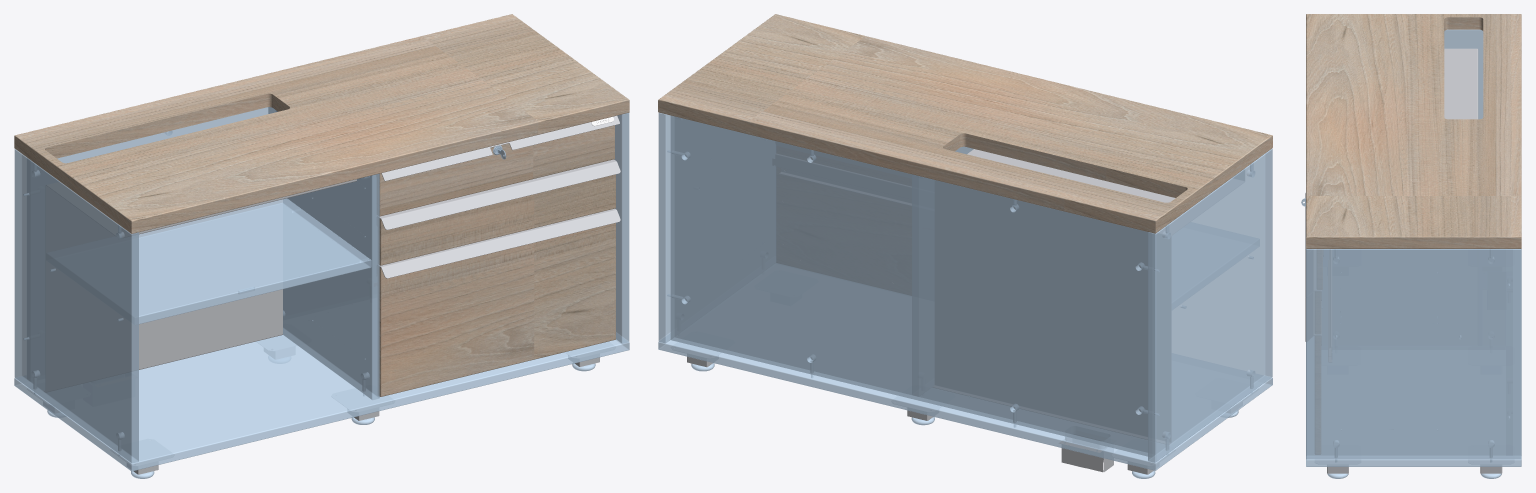
File: LKAL180000_DER_120.glb
3 views of the same model, side by side, from view 1: azimuth 30°, elevation 25°; view 2: azimuth 150°, elevation 25°; view 3: azimuth 270°, elevation 25° (orthographic). The views are drawn at different scales.
Parts seen in each view (by area): view 1: 4 (×4), 72, 59, 70, 67, 65, 74; view 2: 4 (×4), 72, 60, 64; view 3: 4 (×4), 72, 59, 60, 70.
Boxes of the visible parts, left/top/right/bottom form: 4 (×4): left=14, top=14, right=629, bottom=471; 72: left=45, top=179, right=356, bottom=391; 59: left=379, top=159, right=620, bottom=229; 70: left=379, top=208, right=620, bottom=278; 67: left=381, top=115, right=619, bottom=181; 65: left=332, top=388, right=394, bottom=411; 74: left=111, top=439, right=173, bottom=465; 4 (×4): left=658, top=14, right=1272, bottom=470; 72: left=934, top=149, right=1244, bottom=443; 60: left=773, top=154, right=911, bottom=205; 64: left=1059, top=438, right=1113, bottom=472; 4 (×4): left=1306, top=14, right=1521, bottom=466; 72: left=1444, top=48, right=1478, bottom=119; 59: left=1305, top=193, right=1321, bottom=297; 60: left=1328, top=249, right=1331, bottom=361; 70: left=1305, top=293, right=1321, bottom=341.
Size of the model in its own units: 1.23 by 0.643 by 0.511.
4 materials, 1 textured.
